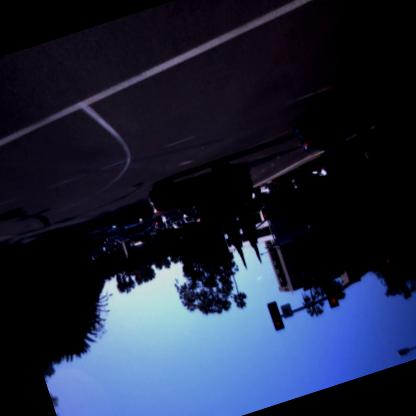trafficlight: (372, 231, 400, 274), (262, 295, 289, 337), (320, 274, 343, 312)
